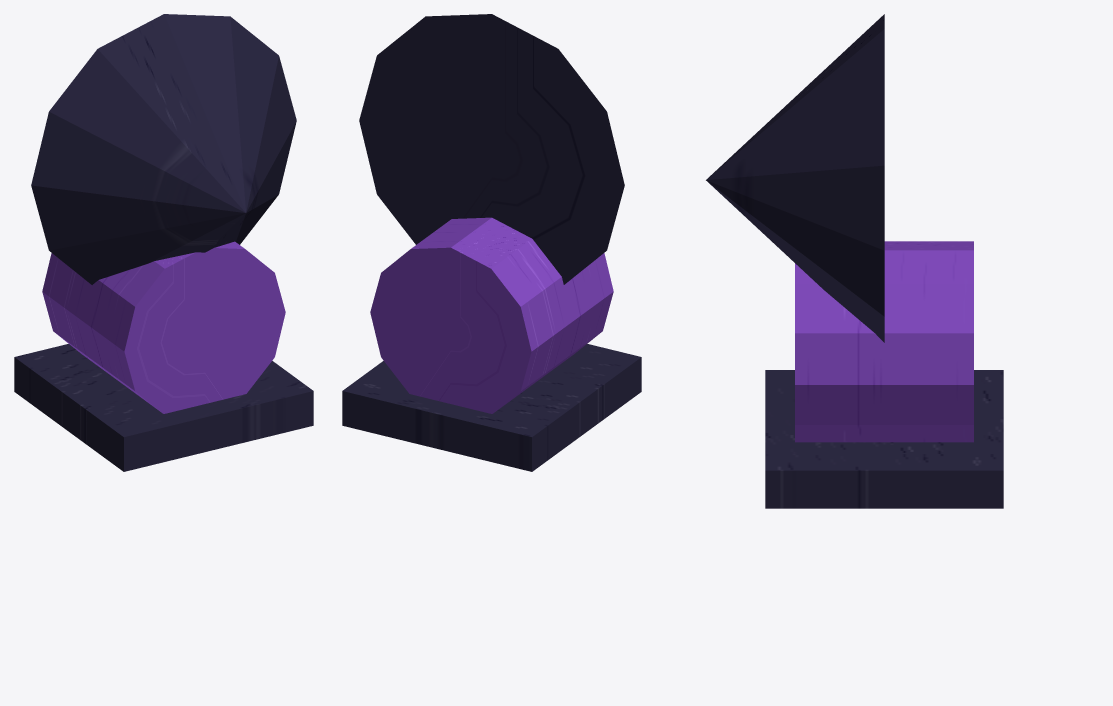
File: spirit_lantern.obj
The picture shows the model from 3 angles, left to right: view 1: azimuth 30°, elevation 25°; view 2: azimuth 150°, elevation 25°; view 3: azimuth 270°, elevation 25°; orthographic projection. The views are drawn at different scales.
Bounding box in the file's own units: 2.8 × 6.1 × 3.6.
Materials: 1 (1 with a texture image).
